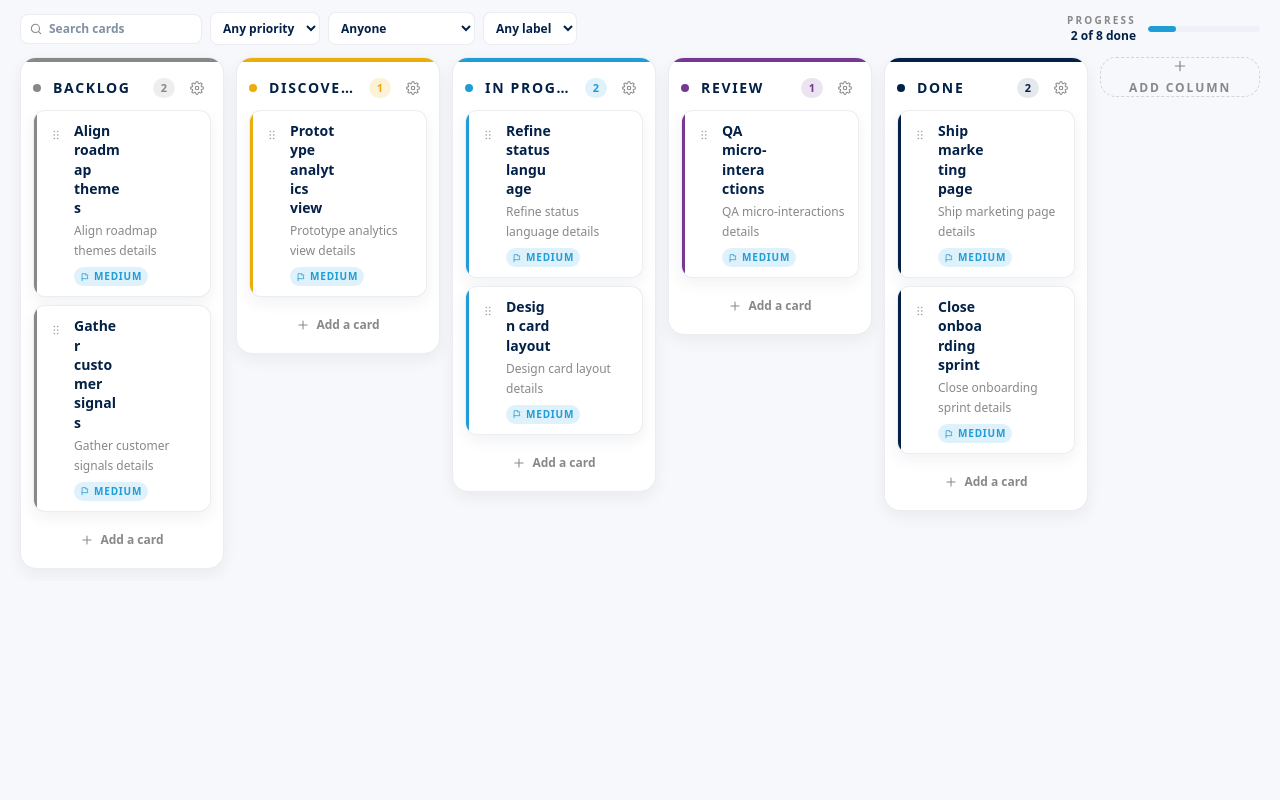
Scenario: KanbanBoard › filters cards by search text
The image size is (1280, 800).
Type "roadmap" into the field labelled "Search cards".
click(121, 28); type("roadmap")  # box x1=49 y1=14 x2=193 y2=42
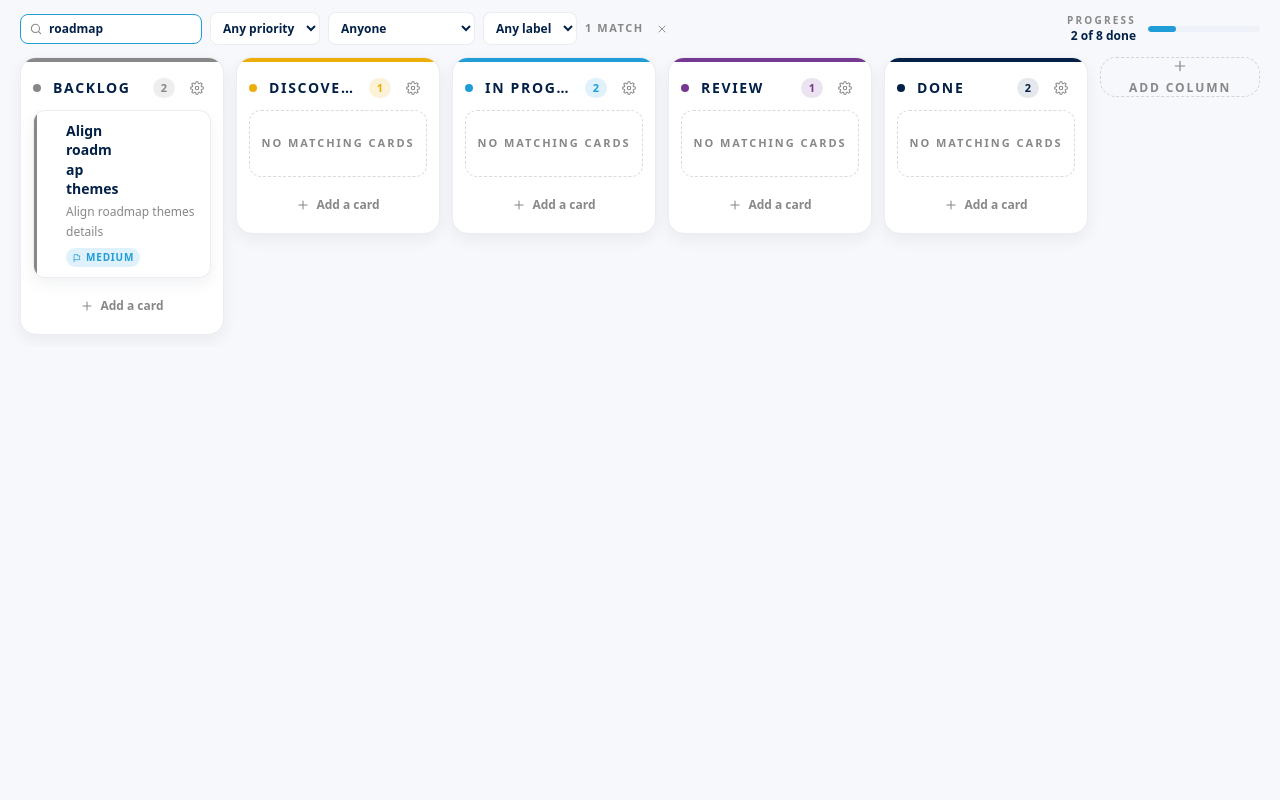
Expected: the element with test id "card-card-1" is shown, x1=33 y1=110 x2=211 y2=278
Expected: the element with test id "card-card-2" is gone
Expected: the text "1 match" is shown, x1=585 y1=14 x2=676 y2=42
